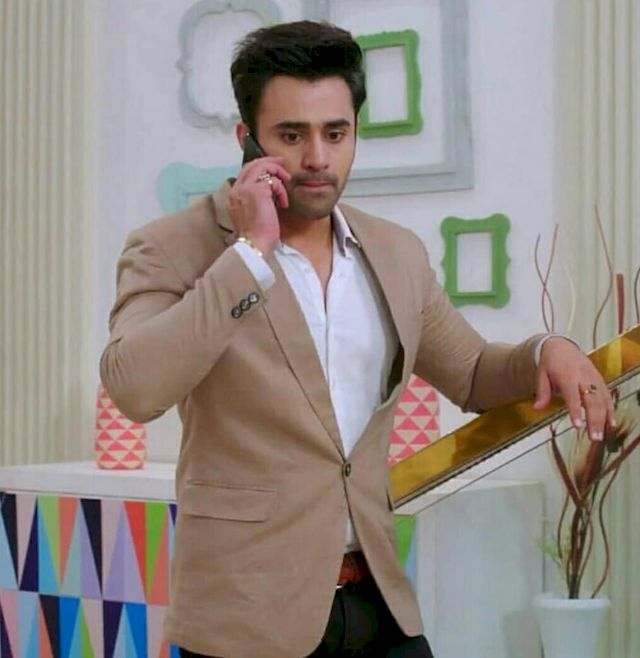phone: (235, 135, 288, 205)
talk: (226, 111, 358, 244)
